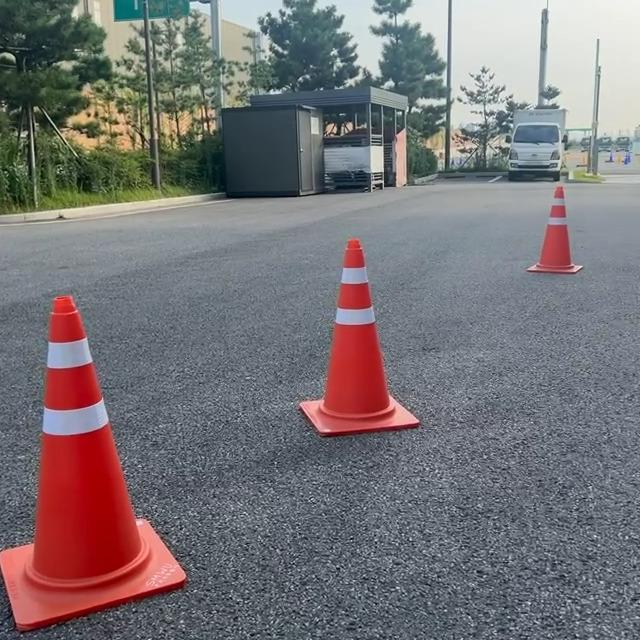fallen_object: (256, 227, 462, 536), (7, 275, 170, 620), (499, 173, 640, 367)
